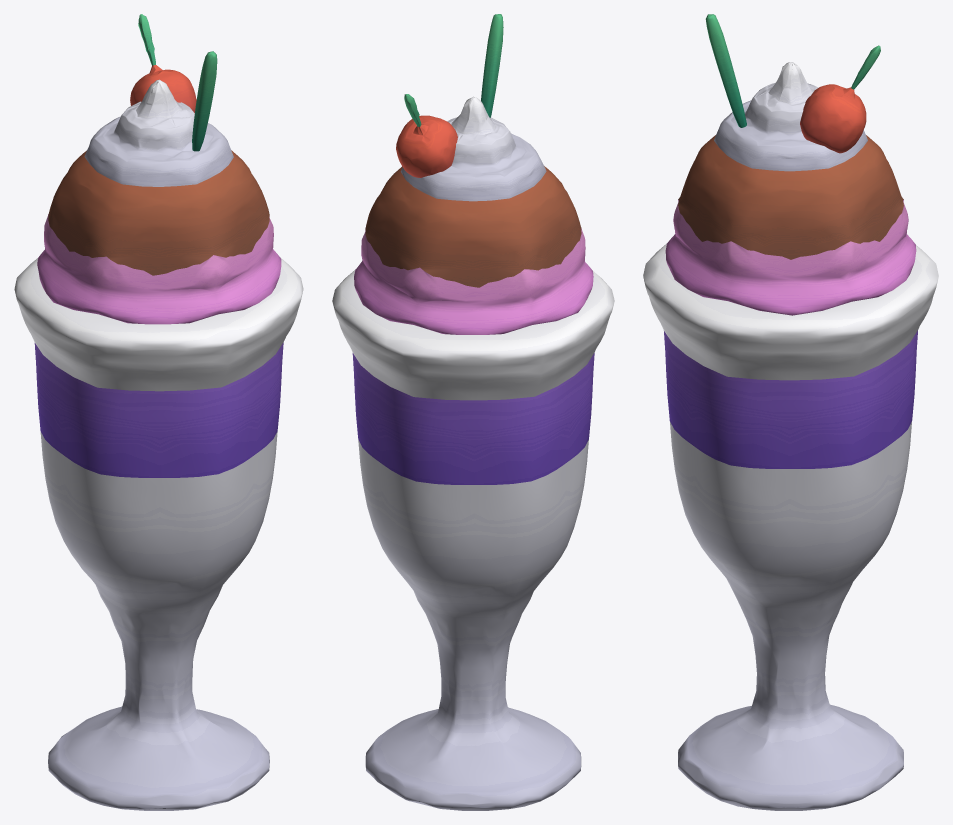
3 renders of one model, left to right at view 1: azimuth 30°, elevation 25°; view 2: azimuth 150°, elevation 25°; view 3: azimuth 270°, elevation 25°, orthographic. The views are drawn at different scales.
Size of the model in its own units: 0.3342 by 0.9958 by 0.3498.
1 material, 1 textured.
